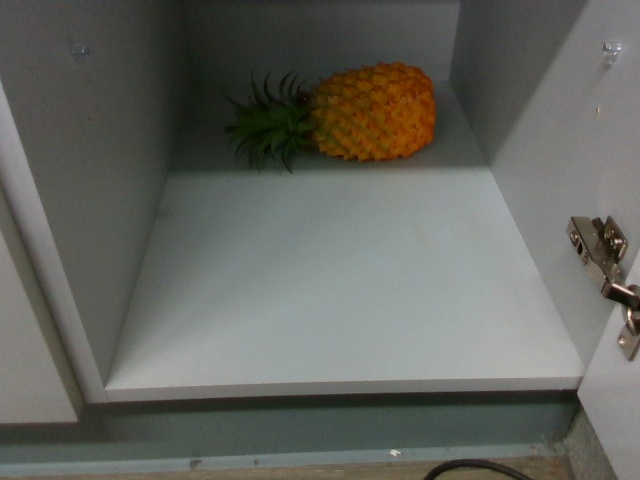pineapple: (236, 57, 441, 164)
